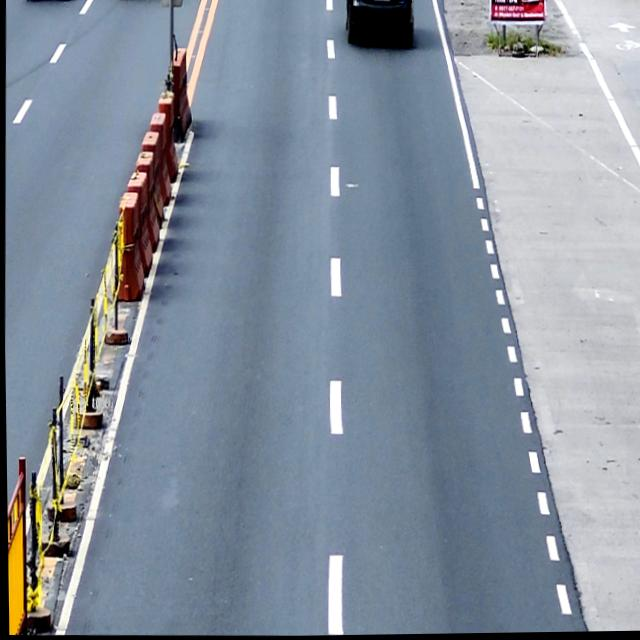Car: (344, 0, 414, 48)
